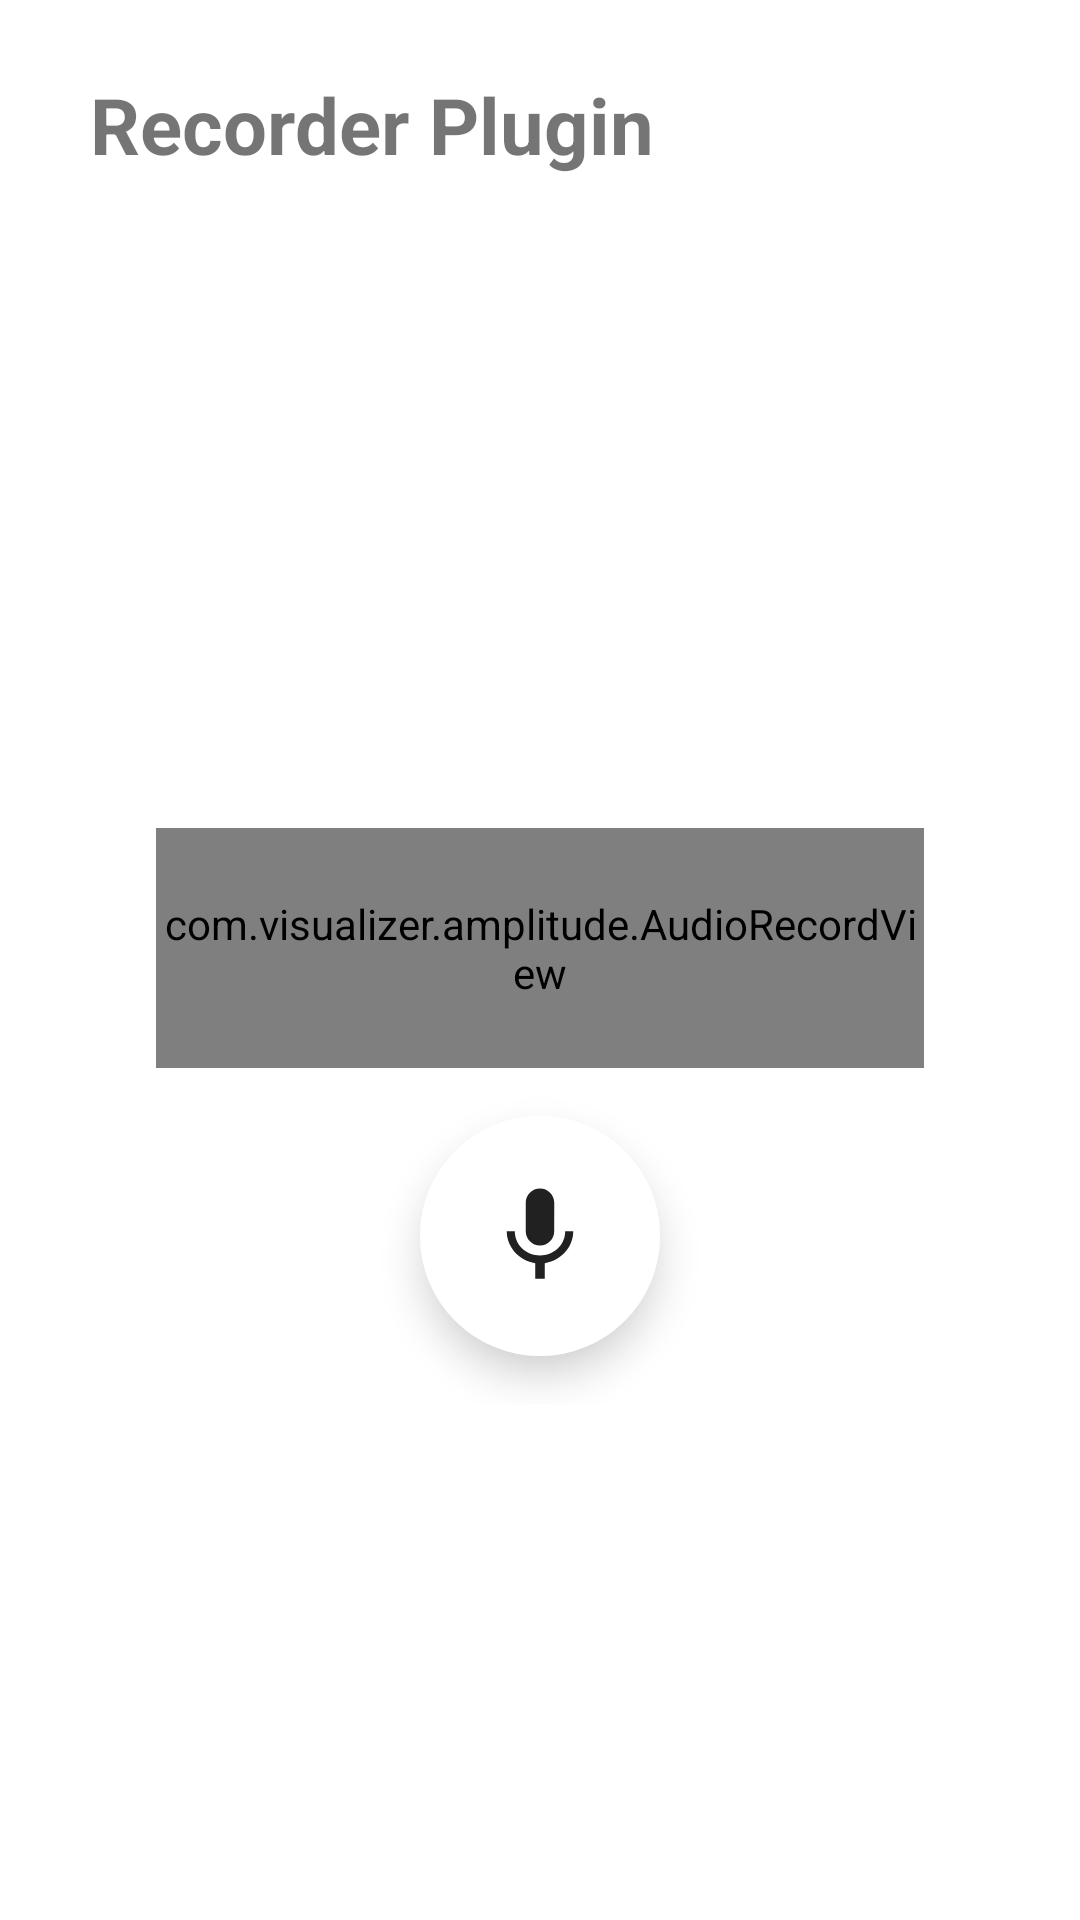

Screen size 1080x1920. Icon name, then its box in pixels as {"x1": x1, "y1": y1, "x2": x2, "y2": y2}:
mic: {"x1": 506, "y1": 1188, "x2": 574, "y2": 1279}
